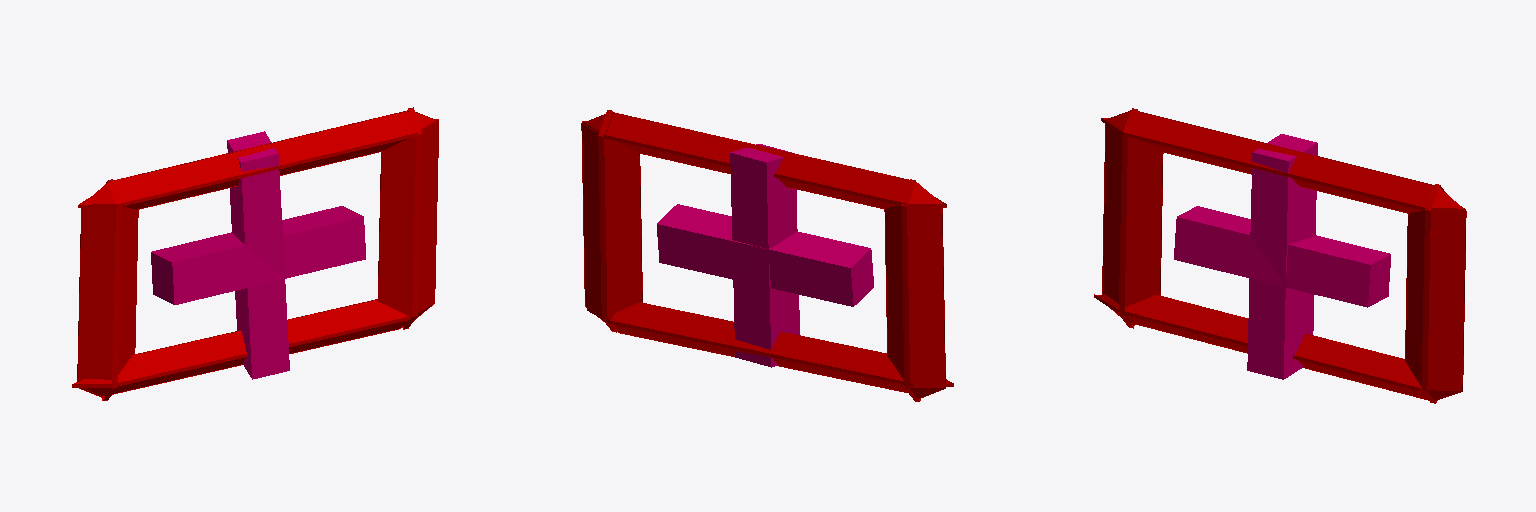
The model's file is plus.obj.
3 views of the same model, side by side, from view 1: azimuth 30°, elevation 25°; view 2: azimuth 150°, elevation 25°; view 3: azimuth 330°, elevation 25° (orthographic).
Parts seen in each view (by area): view 1: Cube.001_Cube.002, Cube.002_cross; view 2: Cube.001_Cube.002, Cube.002_cross; view 3: Cube.001_Cube.002, Cube.002_cross.
Part boxes in pixels (x1,y1,x2,y2): Cube.001_Cube.002: (72, 107, 438, 400); Cube.002_cross: (151, 131, 365, 379); Cube.001_Cube.002: (581, 110, 953, 401); Cube.002_cross: (657, 144, 873, 367); Cube.001_Cube.002: (1094, 108, 1466, 403); Cube.002_cross: (1174, 134, 1390, 379).
Bounding box in the file's own units: 75.28 × 43.46 × 10.74.